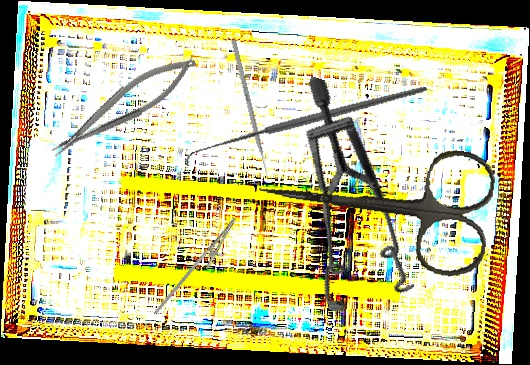Hook Surgical: (184, 32, 429, 221)
Iris Scissors: (250, 123, 499, 283)
Needle Holder: (41, 47, 205, 164), (153, 208, 245, 329)
Pusher: (230, 39, 272, 184)
Speculum: (241, 75, 468, 334)
